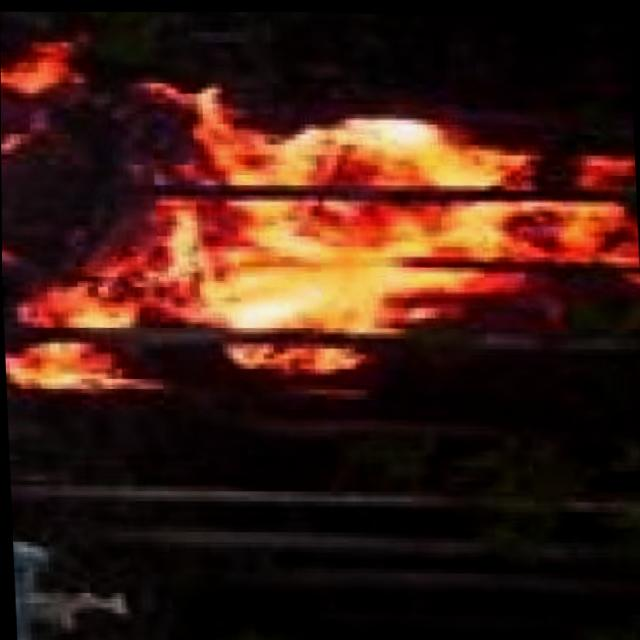fire: (0, 0, 640, 411)
